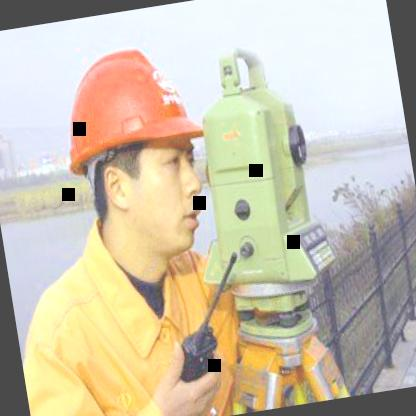helmet: (33, 20, 236, 299)
